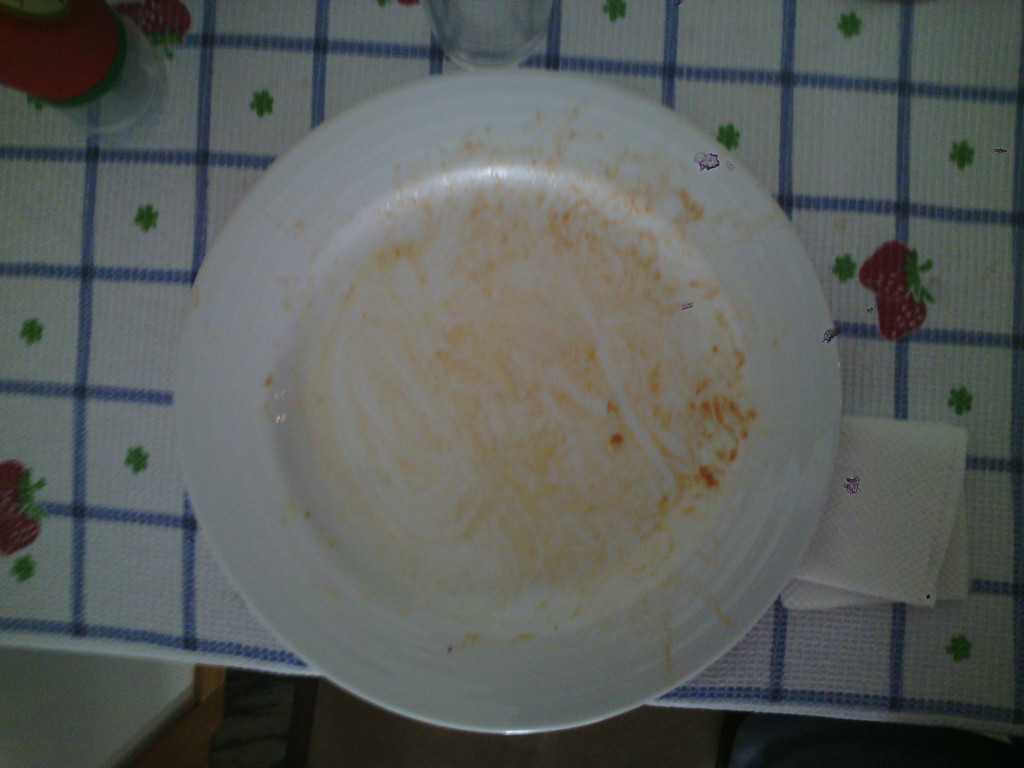0-20: (189, 75, 842, 733)
